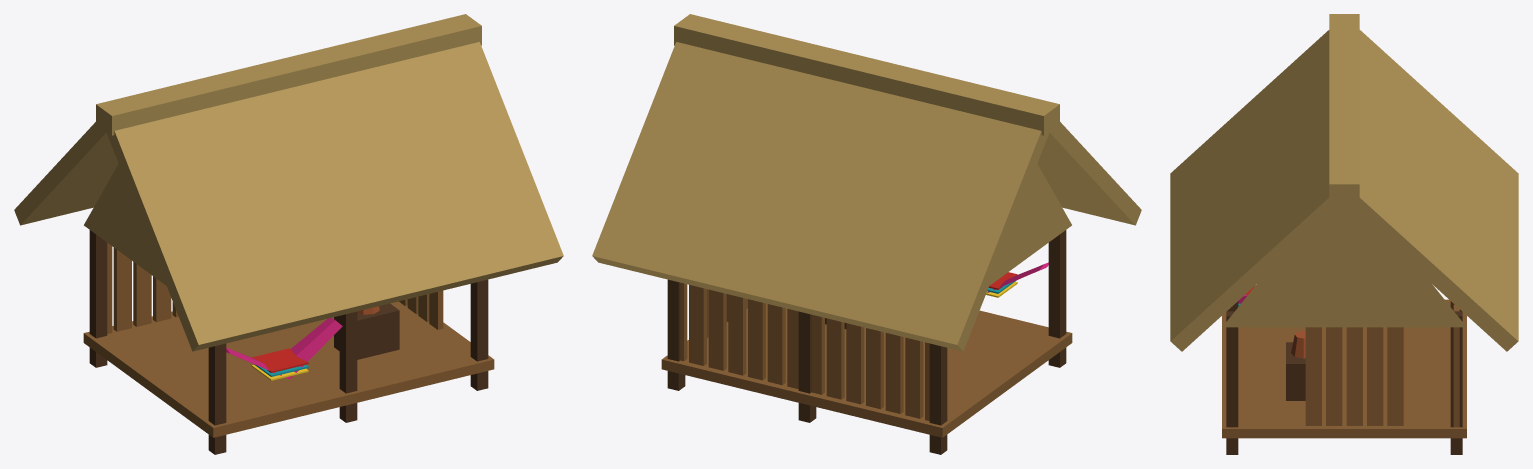
The model's file is Choza de motacu.fbx.
3 views of the same model, side by side, from view 1: azimuth 30°, elevation 25°; view 2: azimuth 150°, elevation 25°; view 3: azimuth 270°, elevation 25° (orthographic). The views are drawn at different scales.
Visible parts, largest first — view 1: Choza de motacu; view 2: Choza de motacu; view 3: Choza de motacu.
Boxes of the visible parts, x1,y1,x2,y2 form: Choza de motacu: (14, 14, 563, 454); Choza de motacu: (592, 14, 1141, 454); Choza de motacu: (1170, 14, 1518, 454).
Size of the model in its own units: 3.95 by 3.17 by 3.41.
